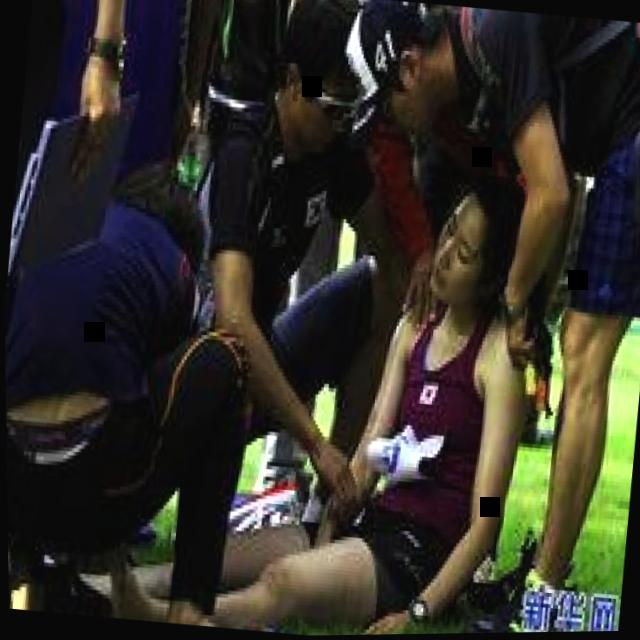Fall-Detected: (152, 120, 558, 638)
